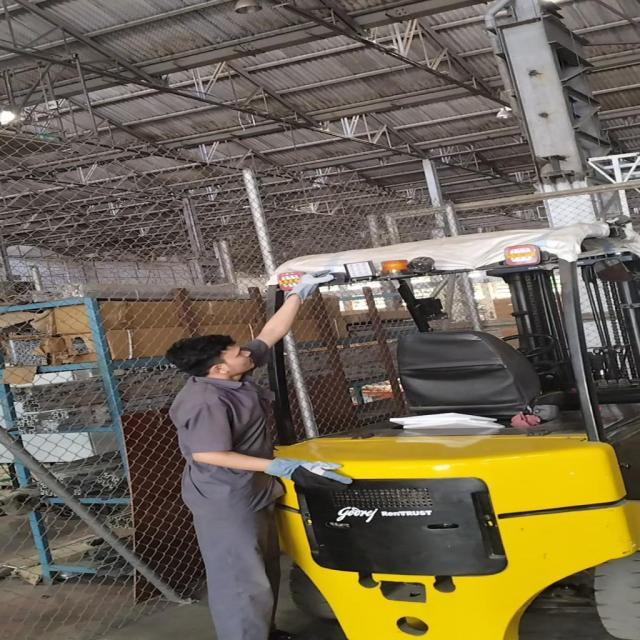Gloves-Detection: (260, 457, 350, 492), (282, 270, 326, 307)
